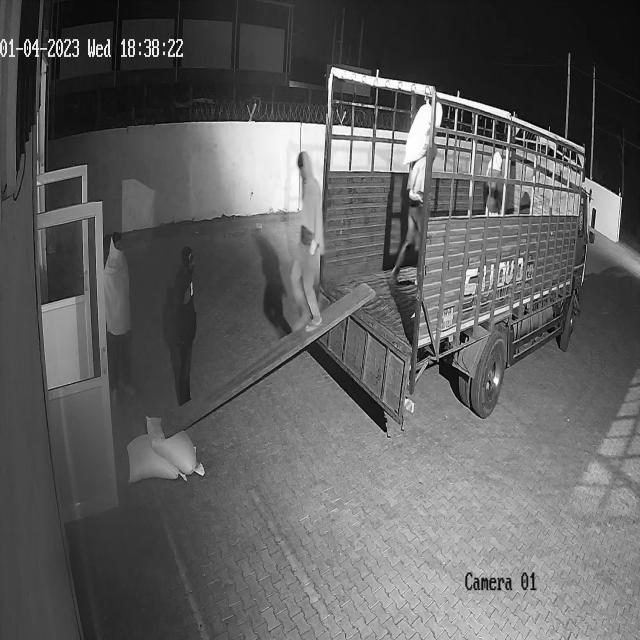sack: (145, 415, 205, 475), (126, 432, 185, 480), (404, 99, 442, 166)
